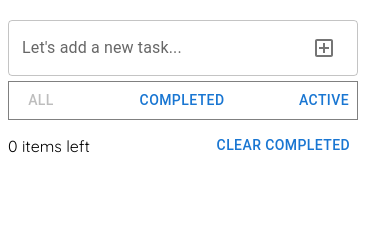
Test: Test the TodoList Component › User can create a new task
This screenshot has width=375, height=234.
Type "New todo" into the text box labelled "Let's add a new task..." at (159, 48), box x1=22 y1=36 x2=296 y2=60
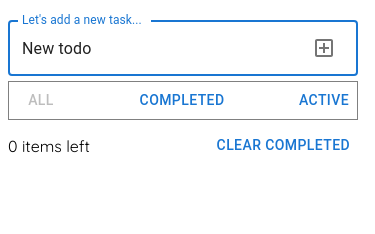
Click the button with test id "add" at (324, 48), box x1=304 y1=28 x2=344 y2=68
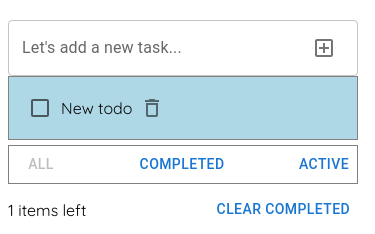
Check: the text "New todo" is shown, box x1=8 y1=76 x2=358 y2=140
